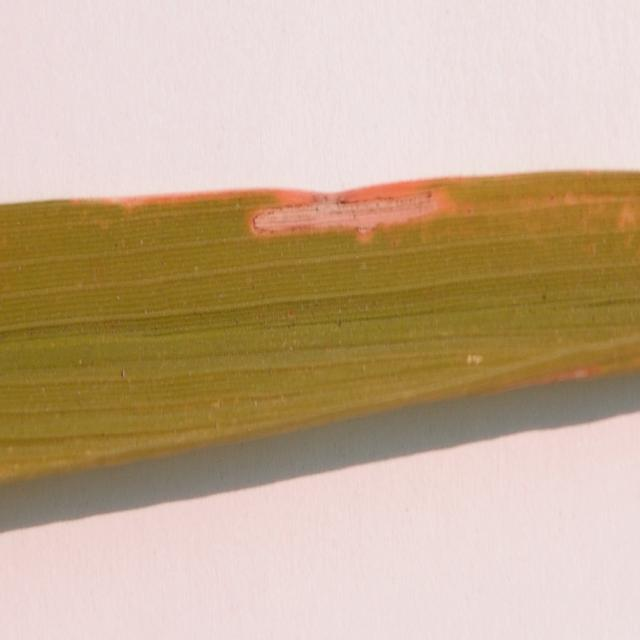Unhealthy: (68, 177, 460, 243)
